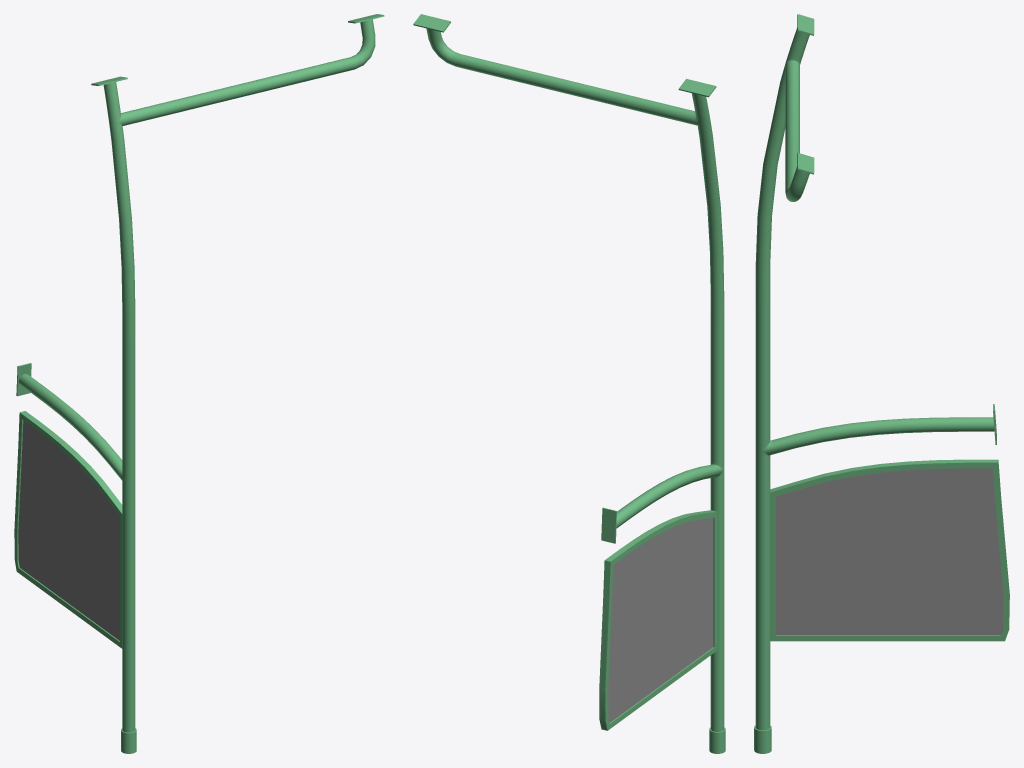
File: Pole_Bend_R.FBX
The picture shows the model from 3 angles, left to right: view 1: azimuth 30°, elevation 25°; view 2: azimuth 150°, elevation 25°; view 3: azimuth 270°, elevation 25°; orthographic projection. The views are drawn at different scales.
Visible parts, largest first — view 1: Pole_Bend; view 2: Pole_Bend; view 3: Pole_Bend.
Boxes of the visible parts, <box> form: Pole_Bend: <box>14,14,384,753</box>; Pole_Bend: <box>413,14,725,753</box>; Pole_Bend: <box>754,14,1009,753</box>.
Bounding box in the file's own units: 0.9557 × 2.1 × 0.6691.
